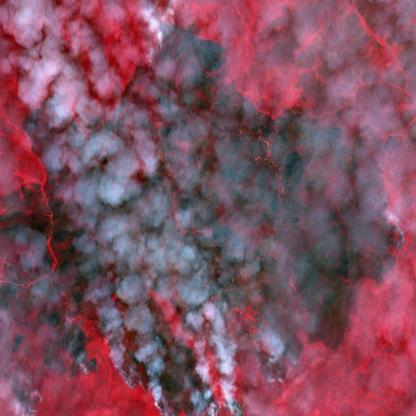fire: (31, 333, 291, 416), (136, 12, 188, 52), (386, 217, 410, 253)
